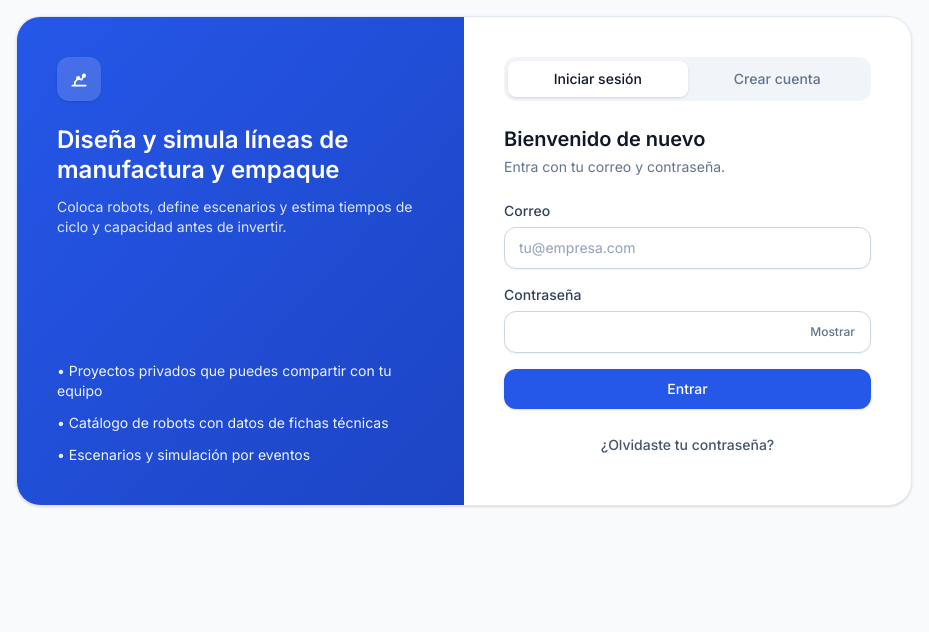
Test: valida la contraseña antes de registrar
Step 1. Click the tab "Crear cuenta" → (777, 79), box [688,61,867,97]
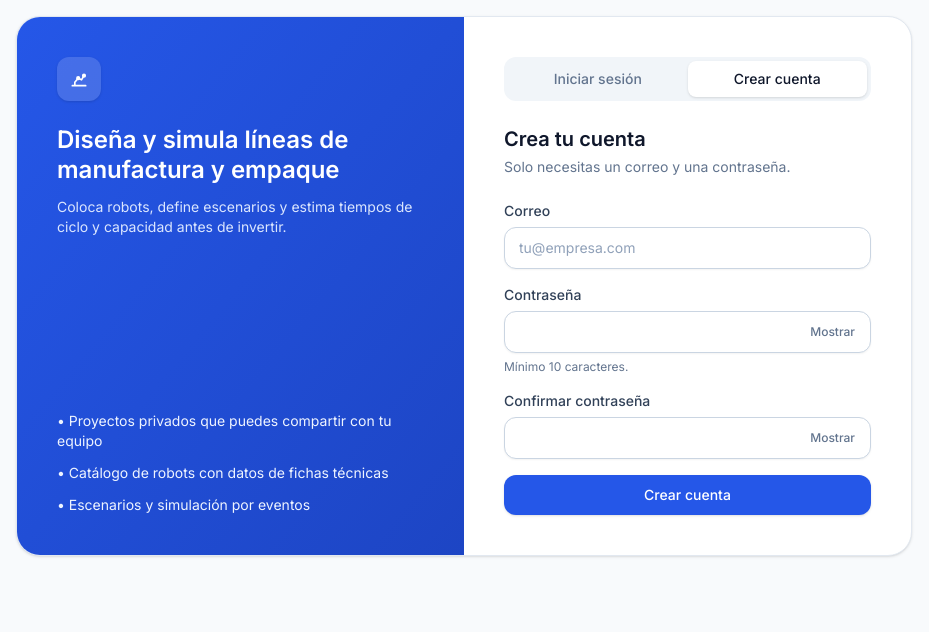
Step 2. Type "nuevo@b.mx" into the field labelled "Correo" → (688, 248), box [504,227,871,269]
Step 3. Type "corta" into the password field labelled "Contraseña" → (688, 332), box [504,311,871,353]
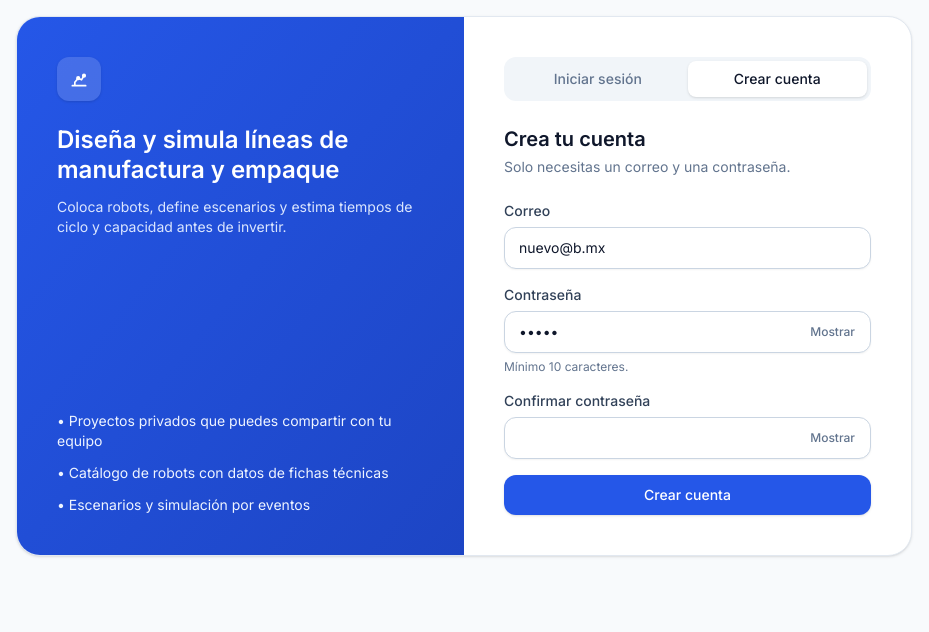
Step 4. Type "corta" into the password field labelled "Confirmar contraseña" → (688, 438), box [504,417,871,459]
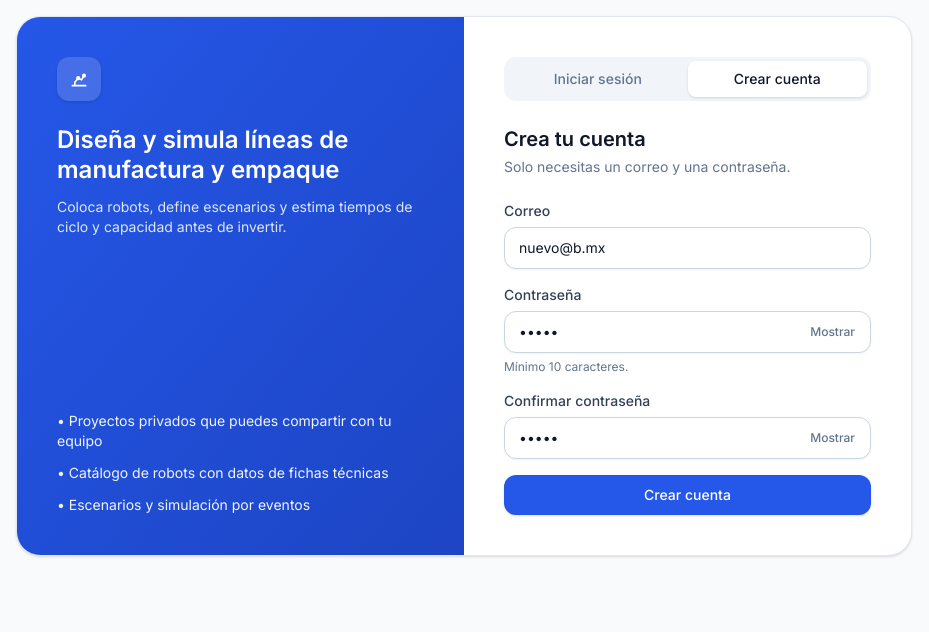
Step 5. Click the button "Crear cuenta" → (688, 495), box [504,475,871,515]
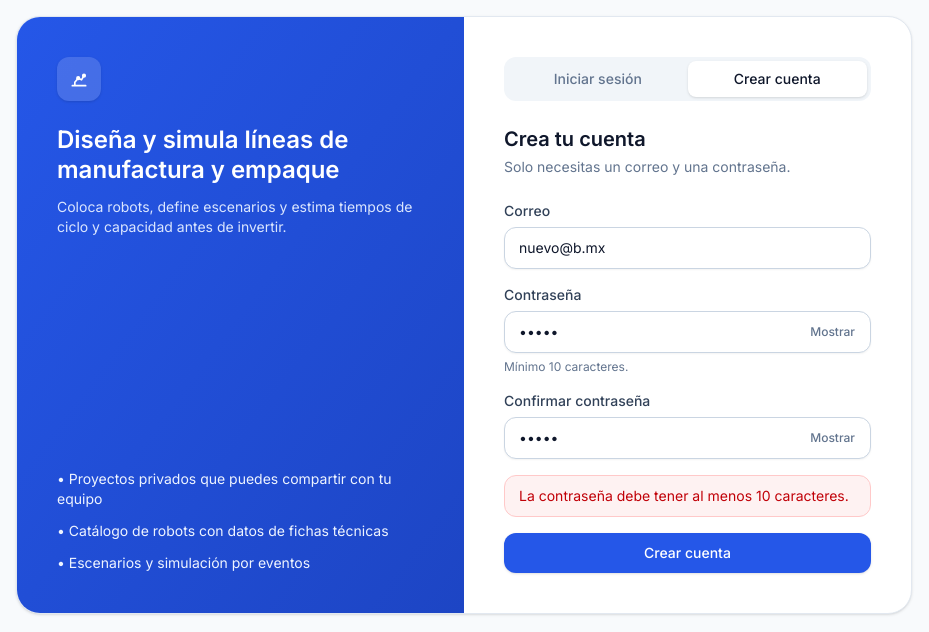
Now the message shows "al menos 10 caracteres", box [519,487,849,504]
Step 6. Type "unaclave-larga" into the password field labelled "Contraseña" → (688, 332), box [504,311,871,353]
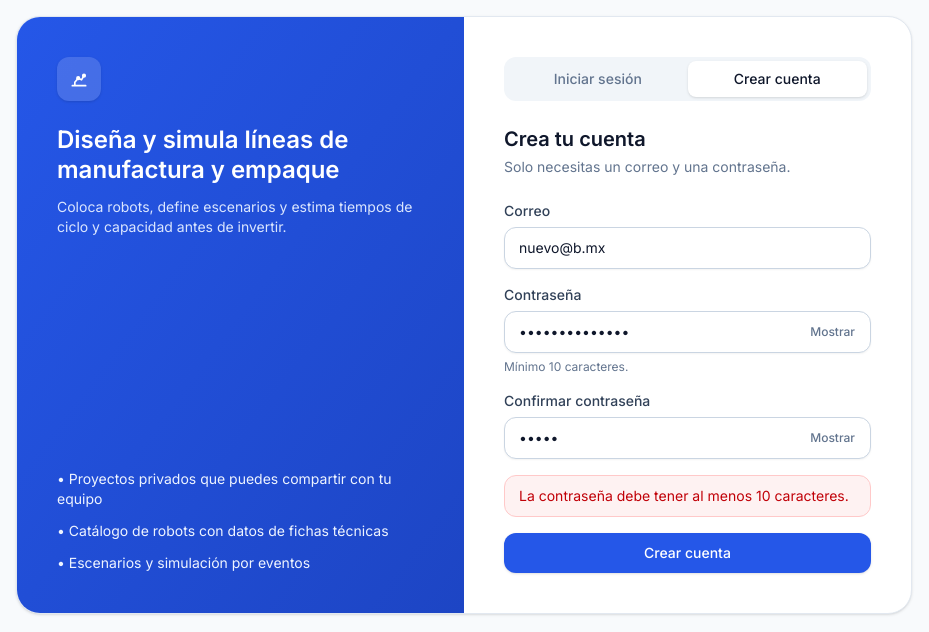
Step 7. Click the button "Crear cuenta" → (688, 553), box [504,533,871,573]
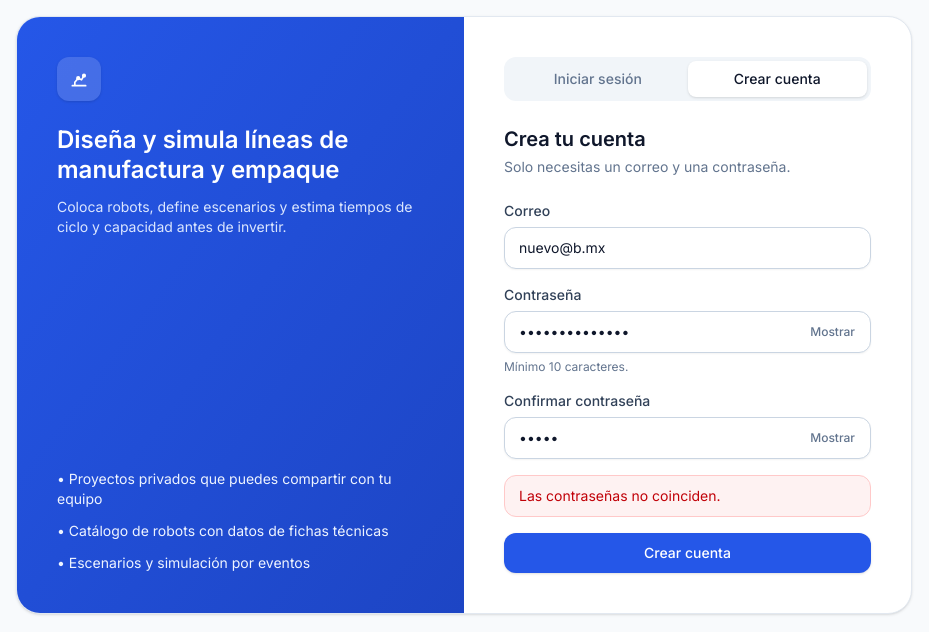
Now the message reads "Las contraseñas no coinciden.", box [519,487,721,504]
